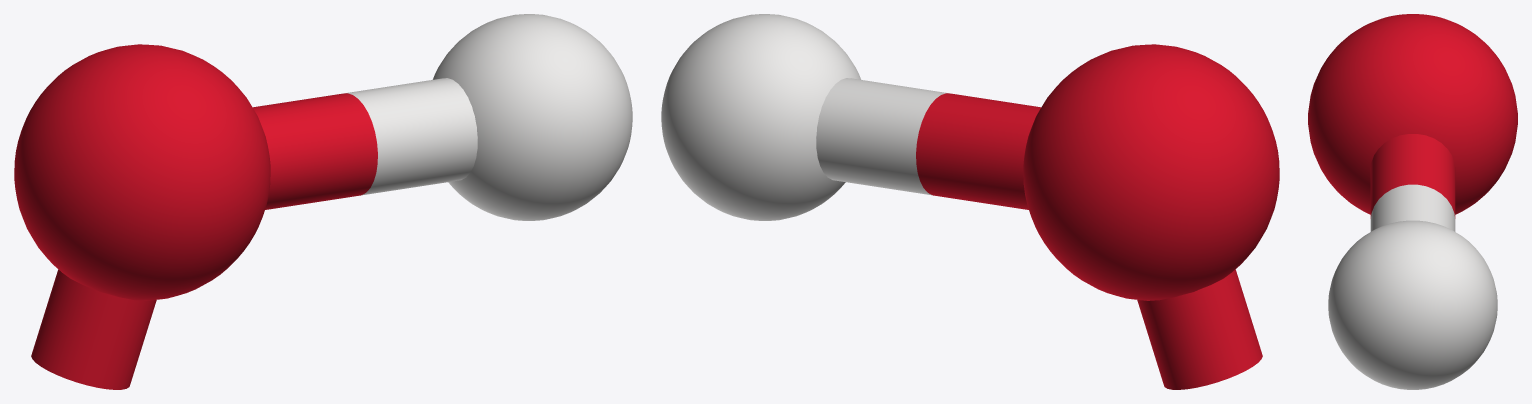
3 views of the same model, side by side, from view 1: azimuth 30°, elevation 25°; view 2: azimuth 150°, elevation 25°; view 3: azimuth 270°, elevation 25° (orthographic). The views are drawn at different scales.
Parts seen in each view (by area): view 1: 对象010; view 2: 对象010; view 3: 对象010.
Part boxes in pixels (x1,y1,x2,y2): 对象010: (14, 14, 632, 389); 对象010: (661, 14, 1279, 389); 对象010: (1308, 14, 1517, 389).
Bounding box in the file's own units: 19.61 × 10.03 × 7.41.
Materials: 2 (2 with a texture image).
